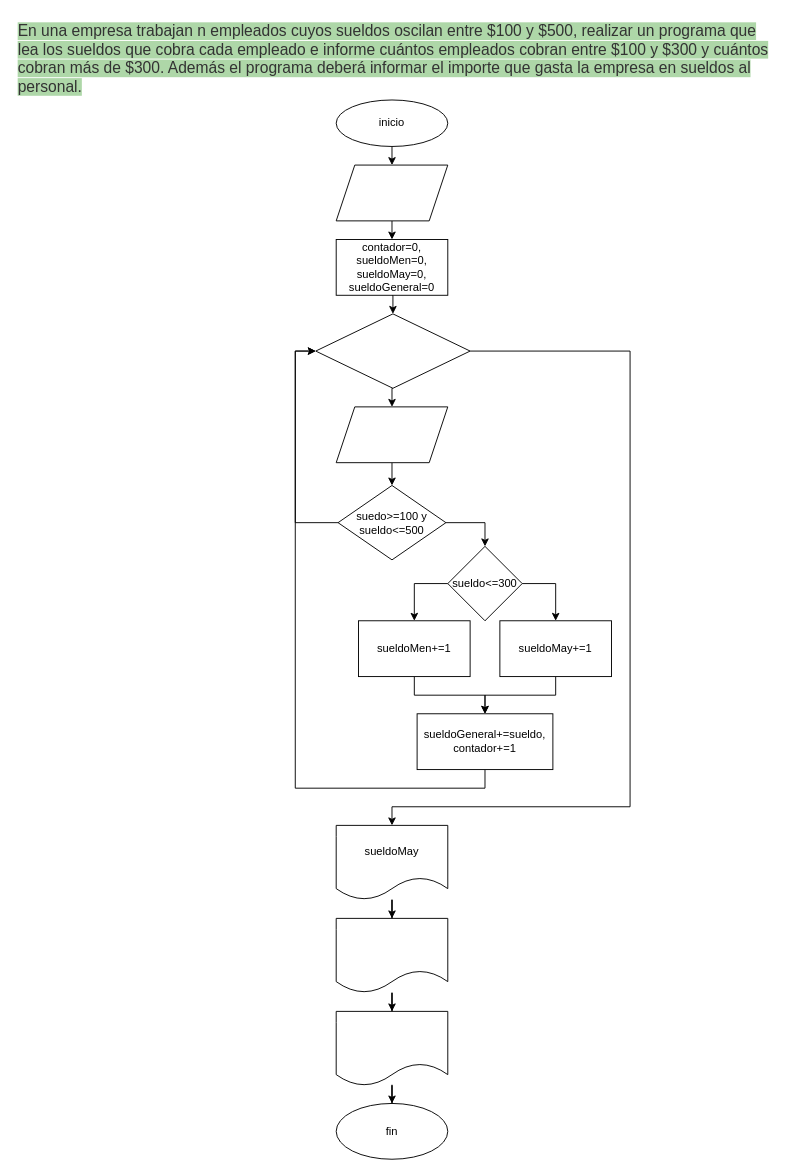
Some shapes in this 785 by 1176 pixel diagram are drawn without their labels. Each missing label, with the box of its shape:
contador<nEmpleados: (315, 313, 470, 388)
nEmpleados: (335, 164, 448, 221)
sueldo: (335, 406, 448, 463)
sueldoGeneral: (335, 1010, 448, 1086)
sueldoMen: (335, 917, 448, 993)
